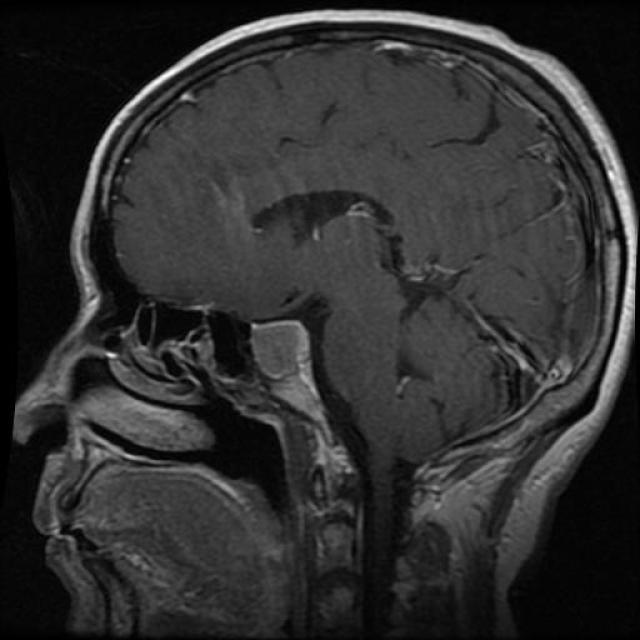pituitary: (240, 304, 355, 406)
